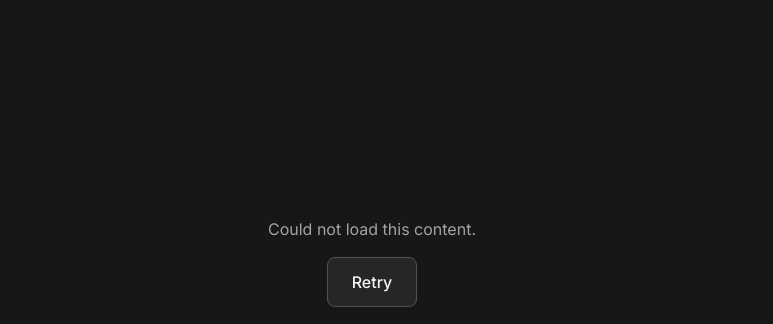
Test: Experience › shows the load error with retry, not the empty text, when the API fails
Expected: the text "Could not load this content." is shown, [268, 219, 476, 239]
Click the button "Retry" at (372, 282), box [327, 257, 417, 307]
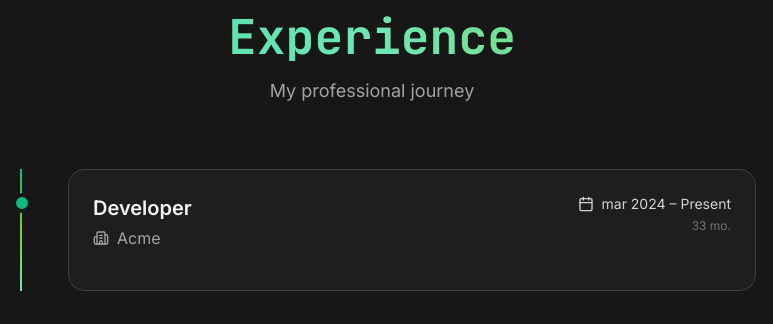
Expected: the heading "Developer" is shown, [93, 194, 192, 222]
